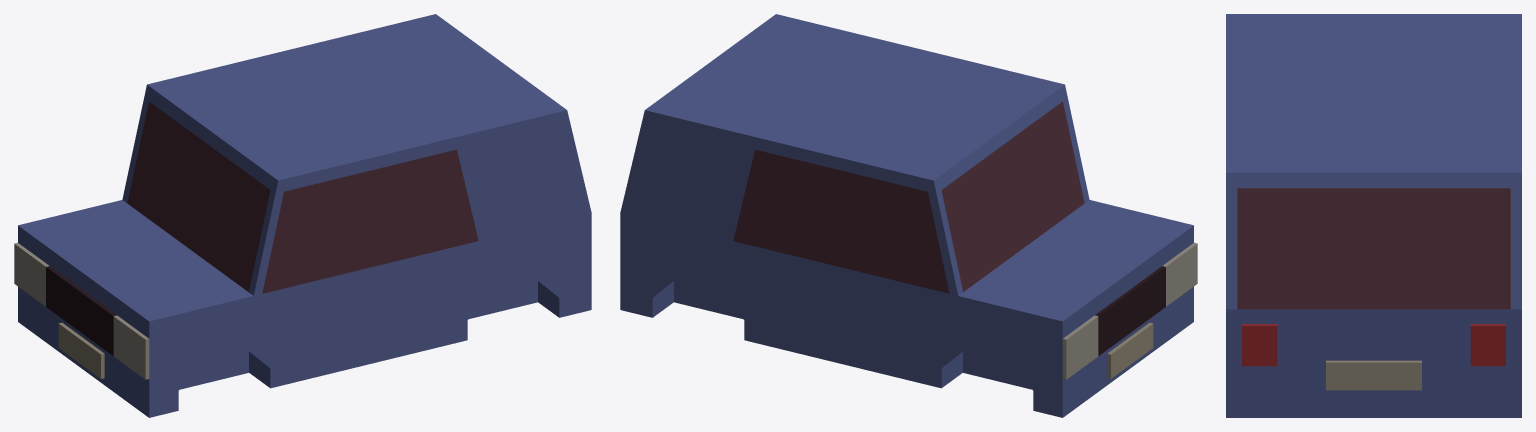
The model's file is Suv_Blue.fbx.
3 views of the same model, side by side, from view 1: azimuth 30°, elevation 25°; view 2: azimuth 150°, elevation 25°; view 3: azimuth 270°, elevation 25° (orthographic). The views are drawn at different scales.
Visible parts, largest first — view 1: Suv_Blue, Suv_Lights; view 2: Suv_Blue, Suv_Lights; view 3: Suv_Blue, Suv_Lights.
Boxes of the visible parts, left/top/right/bottom form: Suv_Blue: left=18, top=14, right=591, bottom=417; Suv_Lights: left=14, top=242, right=149, bottom=379; Suv_Blue: left=620, top=14, right=1193, bottom=417; Suv_Lights: left=1062, top=242, right=1197, bottom=379; Suv_Blue: left=1226, top=14, right=1521, bottom=417; Suv_Lights: left=1242, top=324, right=1505, bottom=366.
Bounding box in the file's own units: 3.66 × 1.6 × 1.85.
